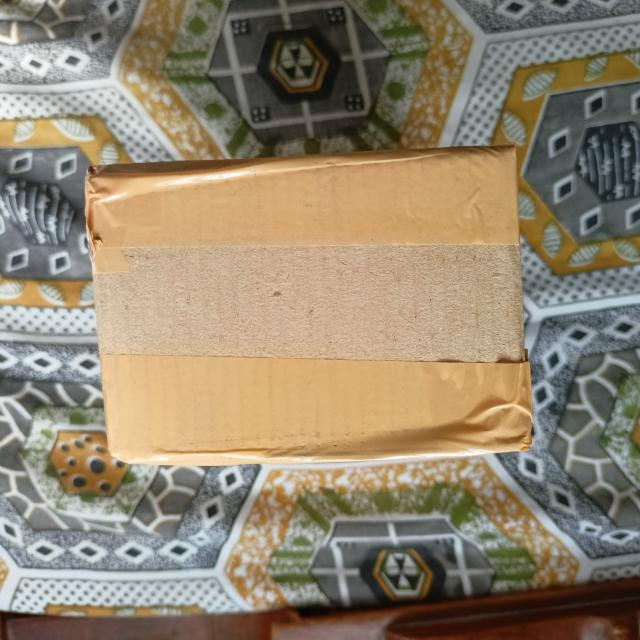box: (92, 147, 531, 460)
